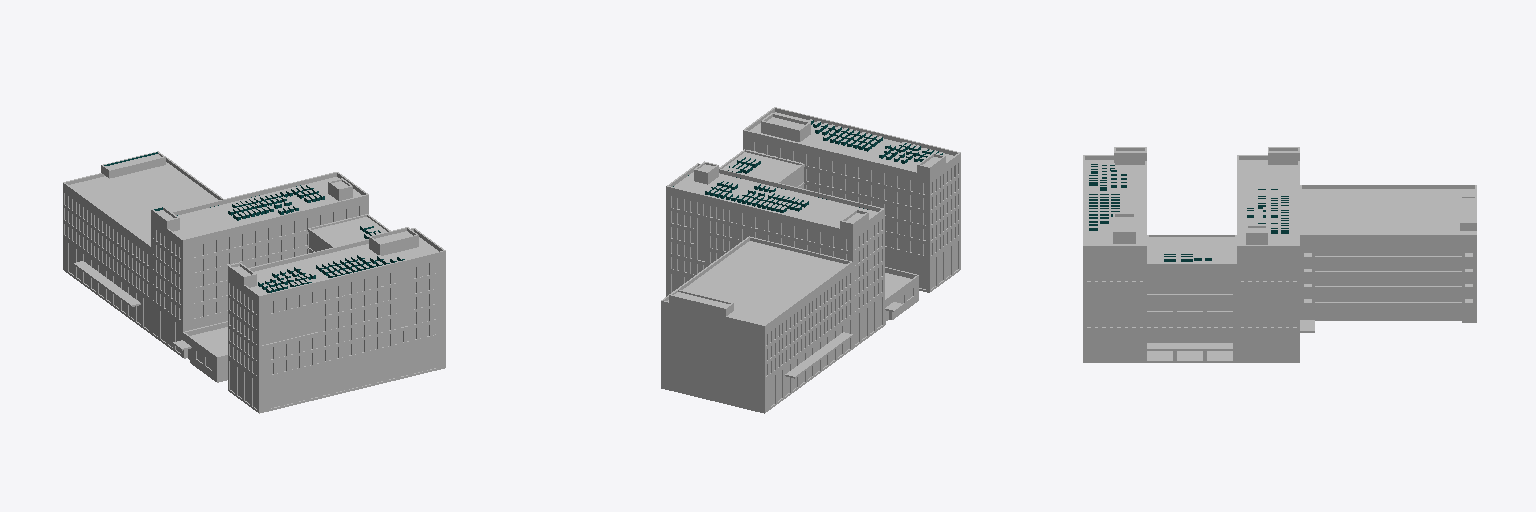
Rendered from hbgz.obj.
3 renders of one model, left to right at view 1: azimuth 30°, elevation 25°; view 2: azimuth 150°, elevation 25°; view 3: azimuth 270°, elevation 25°, orthographic.
Visible parts, largest first — view 1: ID164, ID14681, ID12365, ID2624, ID3625, ID4700, ID1604, ID14657, ID13379; view 2: ID164, ID14681, ID7518, ID12365, ID2624, ID4700, ID1604, ID14657; view 3: ID164, ID14681, ID12365, ID2624, ID15093, ID15101, ID15117, ID15130, ID4700, ID15109, ID14973, ID14981.
Part boxes in pixels (x1,y1,x2,y2): ID164: (63, 151, 445, 413); ID14681: (69, 162, 218, 244); ID12365: (174, 177, 361, 238); ID2624: (251, 237, 438, 294); ID3625: (262, 306, 318, 344); ID4700: (313, 217, 386, 246); ID1604: (369, 227, 418, 255); ID14657: (73, 261, 140, 306); ID13379: (191, 327, 227, 355); ID164: (661, 107, 960, 413); ID14681: (667, 241, 846, 324); ID7518: (666, 186, 852, 296); ID12365: (674, 172, 876, 227); ID2624: (750, 112, 953, 171); ID4700: (723, 152, 799, 181); ID1604: (761, 113, 810, 141); ID14657: (785, 332, 852, 378); ID164: (1083, 147, 1476, 362); ID14681: (1302, 189, 1474, 234); ID12365: (1239, 160, 1297, 244); ID2624: (1085, 160, 1144, 244); ID15093: (1315, 306, 1461, 320); ID15101: (1315, 289, 1461, 301); ID15117: (1315, 258, 1461, 270); ID15130: (1315, 243, 1461, 255); ID4700: (1149, 237, 1234, 262); ID15109: (1315, 274, 1461, 285); ID14973: (1147, 266, 1232, 278); ID14981: (1147, 281, 1232, 293).
Bounding box in the file's own units: 64.5 × 36.82 × 105.